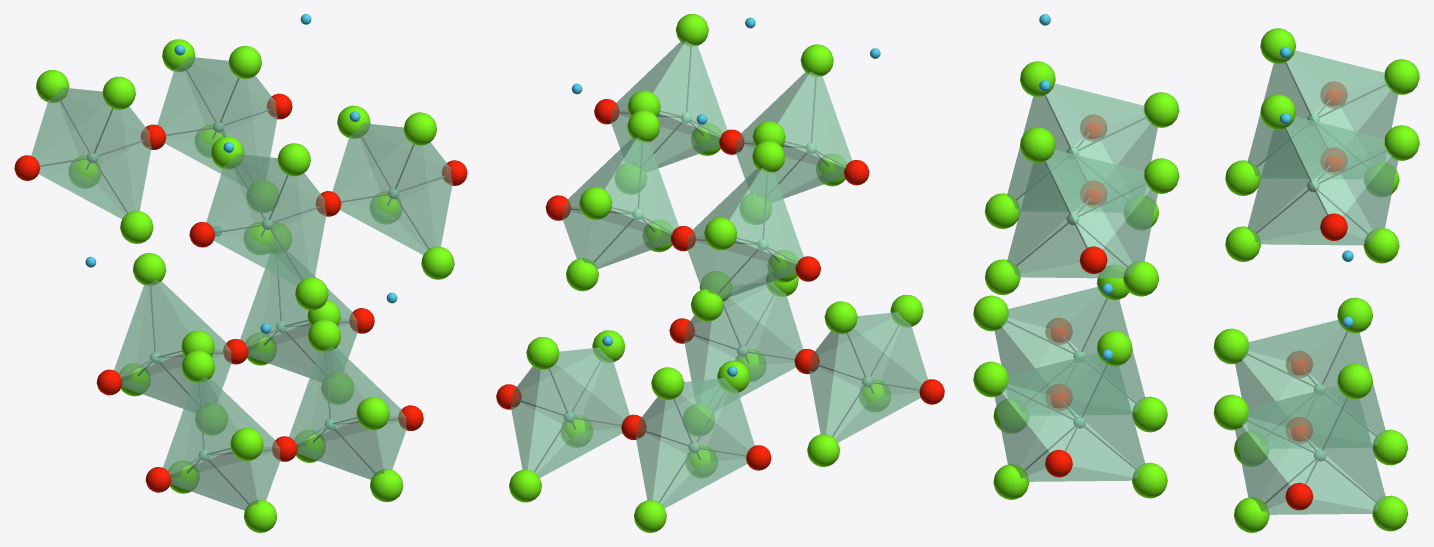
Rendered from LiNbOCl4.glb.
3 renders of one model, left to right at view 1: azimuth 30°, elevation 25°; view 2: azimuth 150°, elevation 25°; view 3: azimuth 270°, elevation 25°, orthographic. The views are drawn at different scales.
Visible parts, largest first — view 1: Shape_IndexedFaceSet, atom2_IndexedFaceSet, atom6_IndexedFaceSet, Shape_Cylinder, atom1_IndexedFaceSet, atom0_IndexedFaceSet; view 2: Shape_IndexedFaceSet, atom2_IndexedFaceSet, atom6_IndexedFaceSet, Shape_Cylinder, atom1_IndexedFaceSet, atom0_IndexedFaceSet; view 3: Shape_IndexedFaceSet, atom2_IndexedFaceSet, atom6_IndexedFaceSet, Shape_Cylinder, atom0_IndexedFaceSet, atom1_IndexedFaceSet.
Boxes of the visible parts, x1=… form: Shape_IndexedFaceSet: x1=31, y1=56, x2=452, y2=510; atom2_IndexedFaceSet: x1=36, y1=39, x2=454, y2=532; atom6_IndexedFaceSet: x1=14, y1=93, x2=467, y2=492; Shape_Cylinder: x1=40, y1=68, x2=445, y2=504; atom1_IndexedFaceSet: x1=86, y1=121, x2=399, y2=460; atom0_IndexedFaceSet: x1=85, y1=14, x2=397, y2=333; Shape_IndexedFaceSet: x1=510, y1=41, x2=927, y2=508; atom2_IndexedFaceSet: x1=509, y1=14, x2=923, y2=532; atom6_IndexedFaceSet: x1=496, y1=99, x2=944, y2=470; Shape_Cylinder: x1=518, y1=46, x2=919, y2=502; atom1_IndexedFaceSet: x1=563, y1=112, x2=873, y2=453; atom0_IndexedFaceSet: x1=571, y1=17, x2=880, y2=376; Shape_IndexedFaceSet: x1=994, y1=50, x2=1398, y2=514; atom2_IndexedFaceSet: x1=973, y1=28, x2=1419, y2=532; atom6_IndexedFaceSet: x1=1045, y1=81, x2=1347, y2=510; Shape_Cylinder: x1=1007, y1=62, x2=1385, y2=503; atom0_IndexedFaceSet: x1=1039, y1=14, x2=1353, y2=360; atom1_IndexedFaceSet: x1=1066, y1=113, x2=1326, y2=461.
Size of the model in its own units: 10.72 by 11.6 by 11.33.
